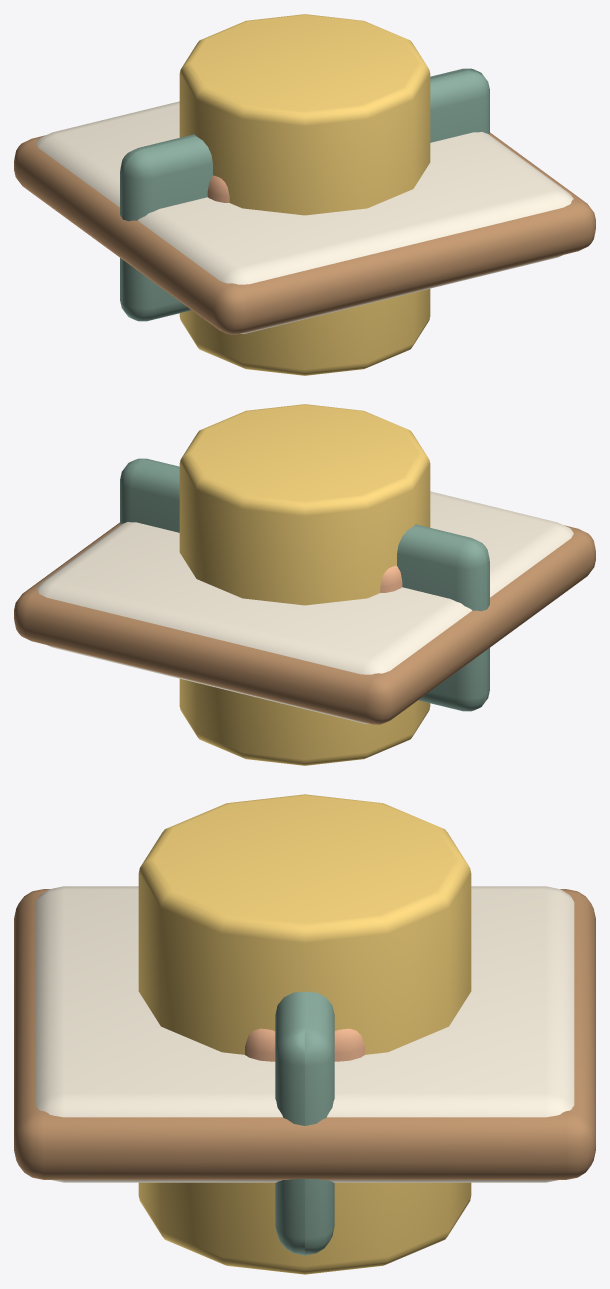
File: factory-kit.glb
The picture shows the model from 3 angles, top to bottom: view 1: azimuth 30°, elevation 25°; view 2: azimuth 150°, elevation 25°; view 3: azimuth 270°, elevation 25°; orthographic projection. The views are drawn at different scales.
Parts seen in each view (by area): view 1: checkpoint, tile_base, tile_underlay, wall, pusher; view 2: checkpoint, tile_base, tile_underlay, wall, pusher; view 3: checkpoint, tile_base, tile_underlay, wall, pusher.
Part boxes in pixels (x1,y1,x2,y2): checkpoint: [179, 14, 430, 375]; tile_base: [36, 101, 573, 333]; tile_underlay: [14, 132, 595, 334]; wall: [120, 68, 489, 321]; pusher: [207, 175, 229, 202]; checkpoint: [179, 404, 430, 765]; tile_base: [36, 491, 573, 723]; tile_underlay: [14, 522, 595, 724]; wall: [120, 458, 489, 711]; pusher: [380, 565, 402, 592]; checkpoint: [138, 794, 471, 1274]; tile_base: [35, 886, 574, 1182]; tile_underlay: [14, 889, 595, 1179]; wall: [275, 991, 334, 1255]; pusher: [245, 1028, 364, 1061].
Size of the model in its own units: 0.98 by 0.65 by 0.98.
